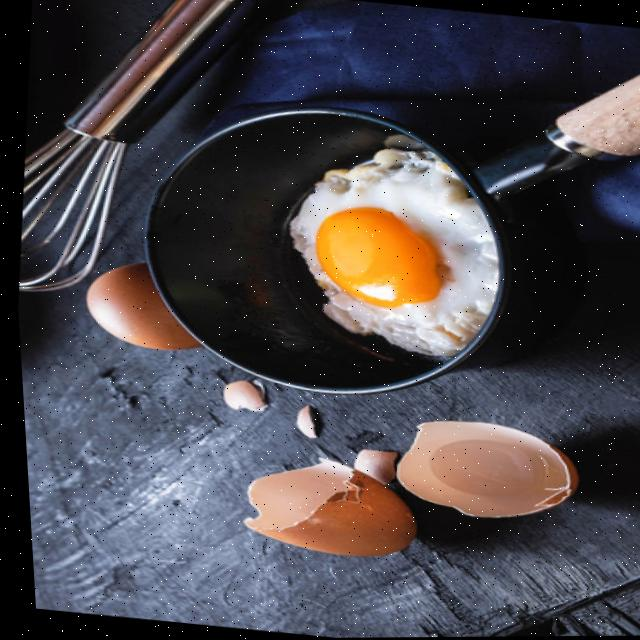Egg: (286, 147, 494, 356)
